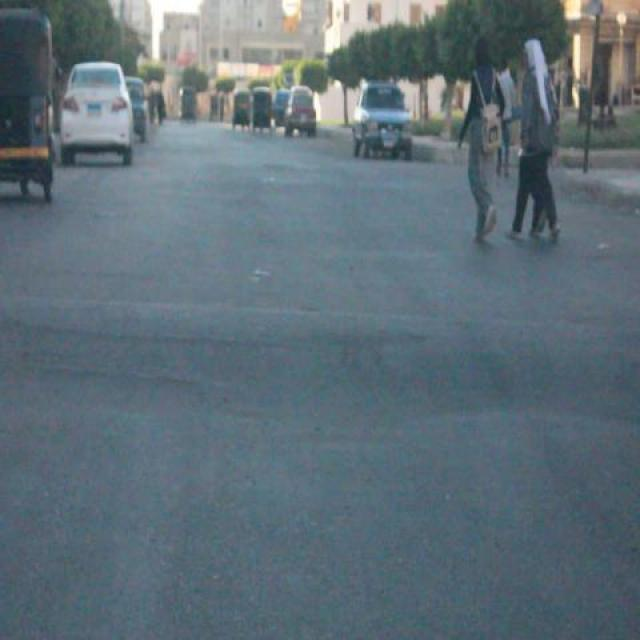Unmarked Bump: (0, 296, 640, 426)
